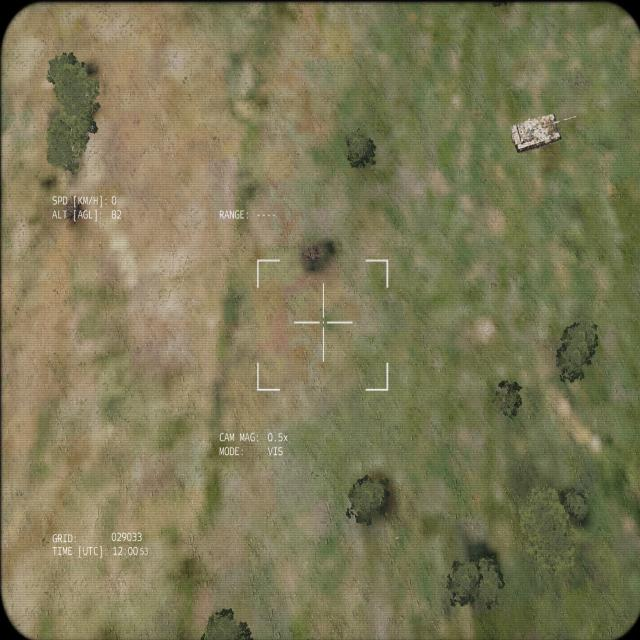tank: (509, 113, 576, 153)
